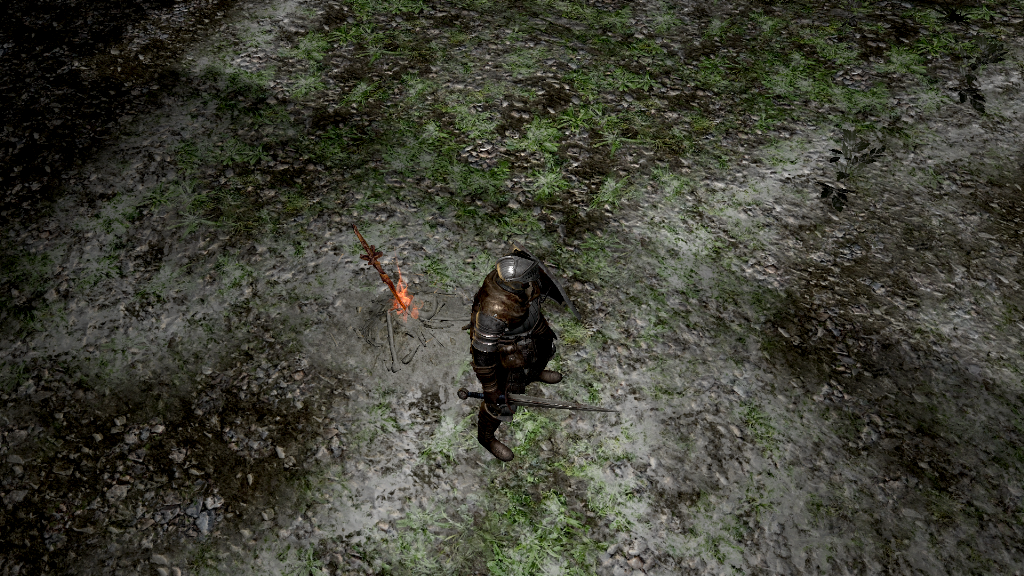bonfire: (343, 220, 424, 331)
player: (456, 239, 622, 462)
